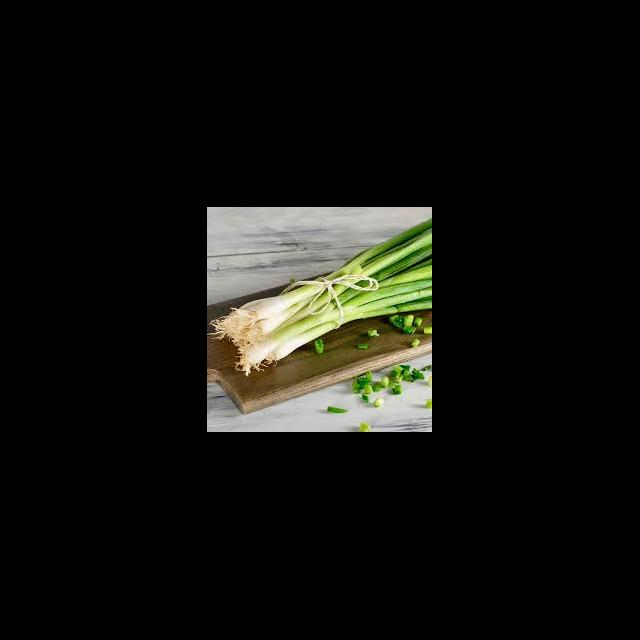green_onion: (212, 220, 432, 376)
